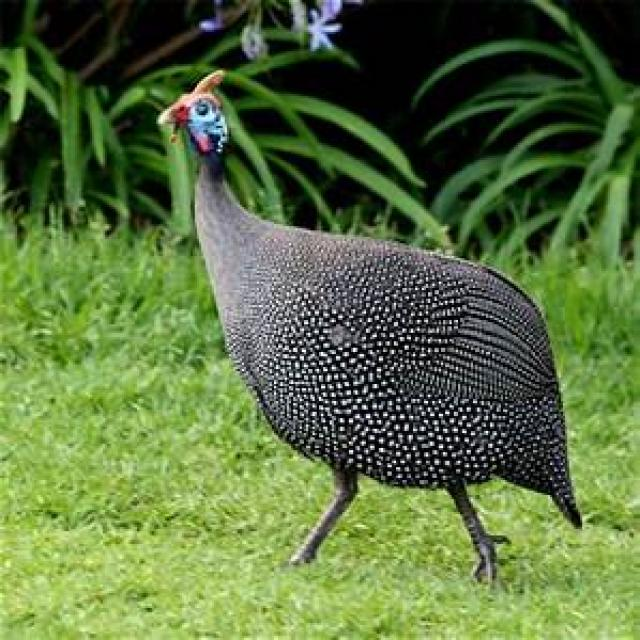hen: (159, 72, 582, 581)
